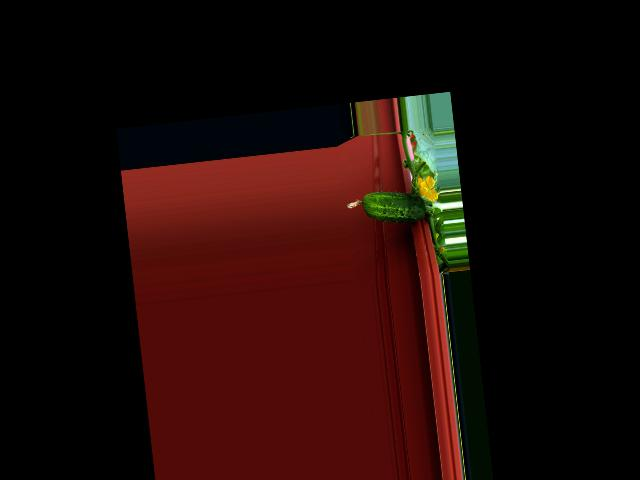cucumber: (345, 186, 427, 228)
